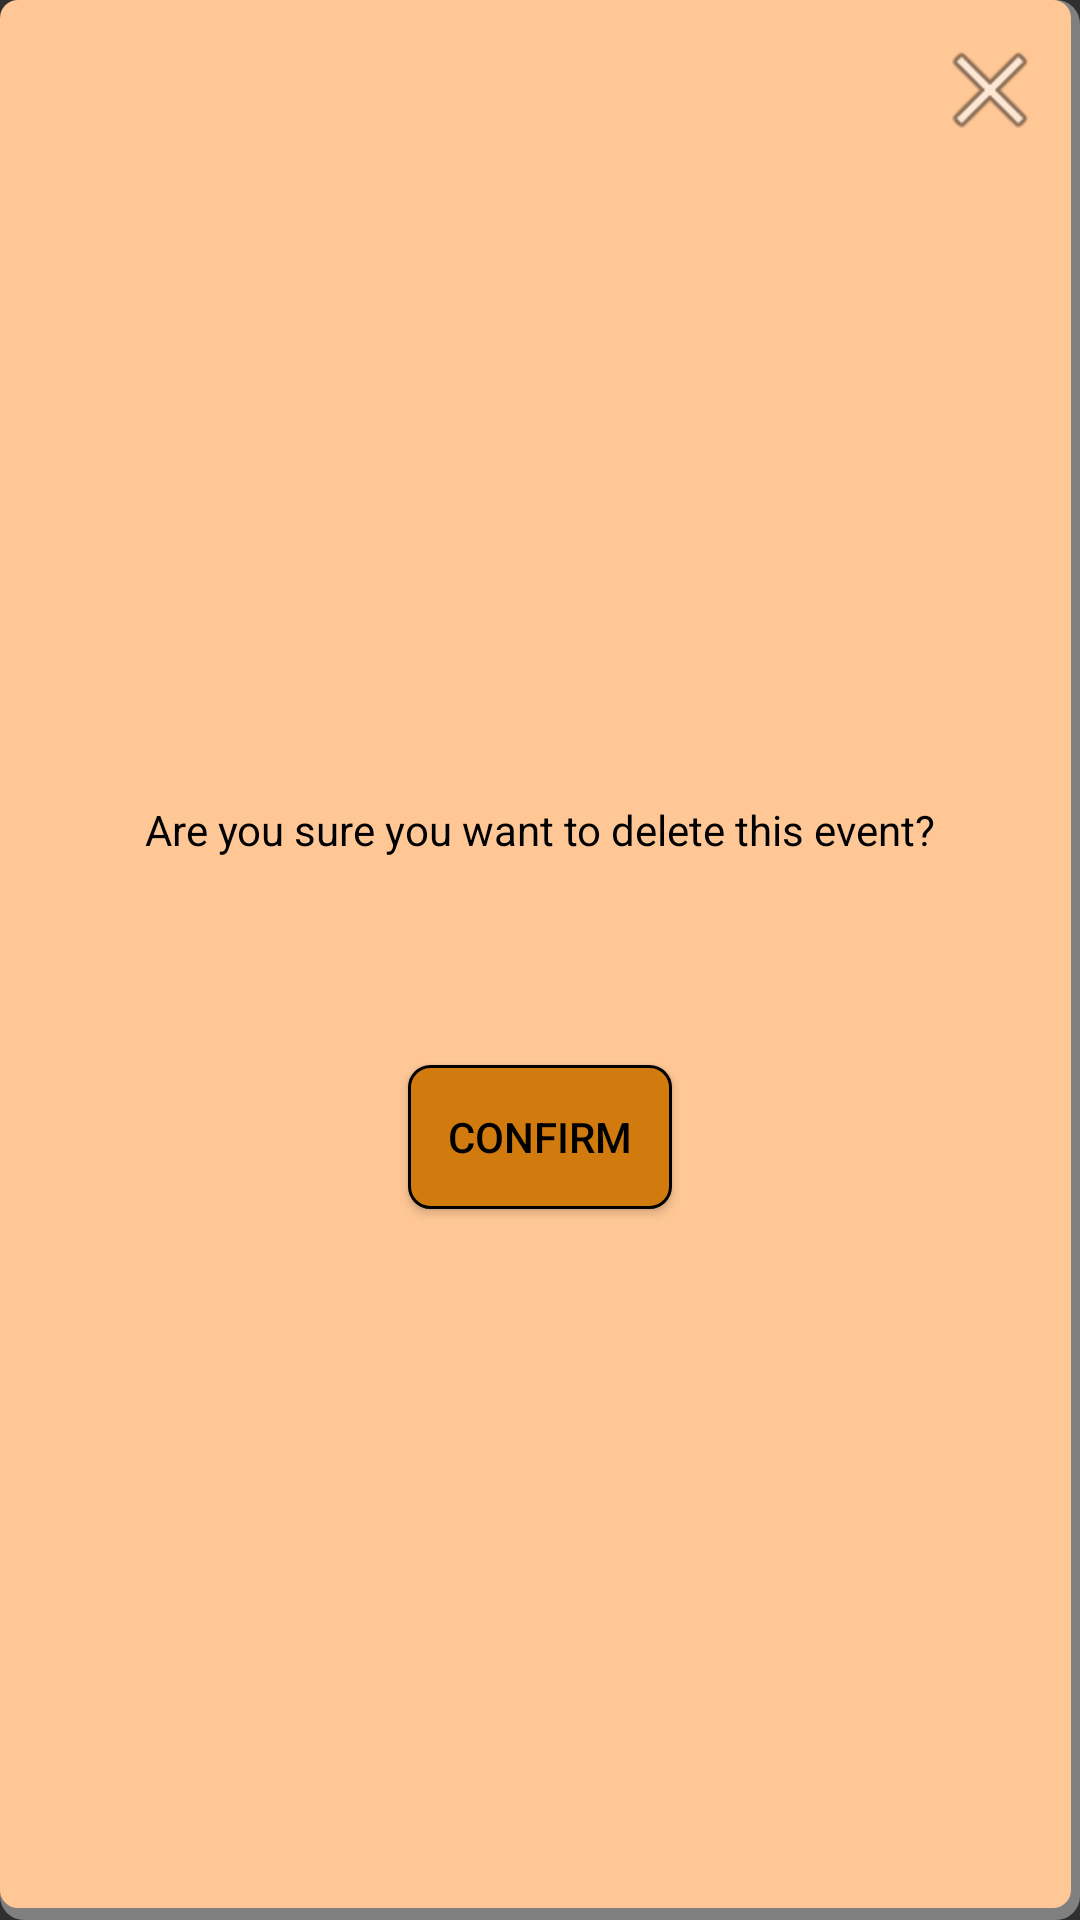

Icon click points for this 1080x1920 phone screenshot, format (x,y):
close clear cancel: (990,90)
